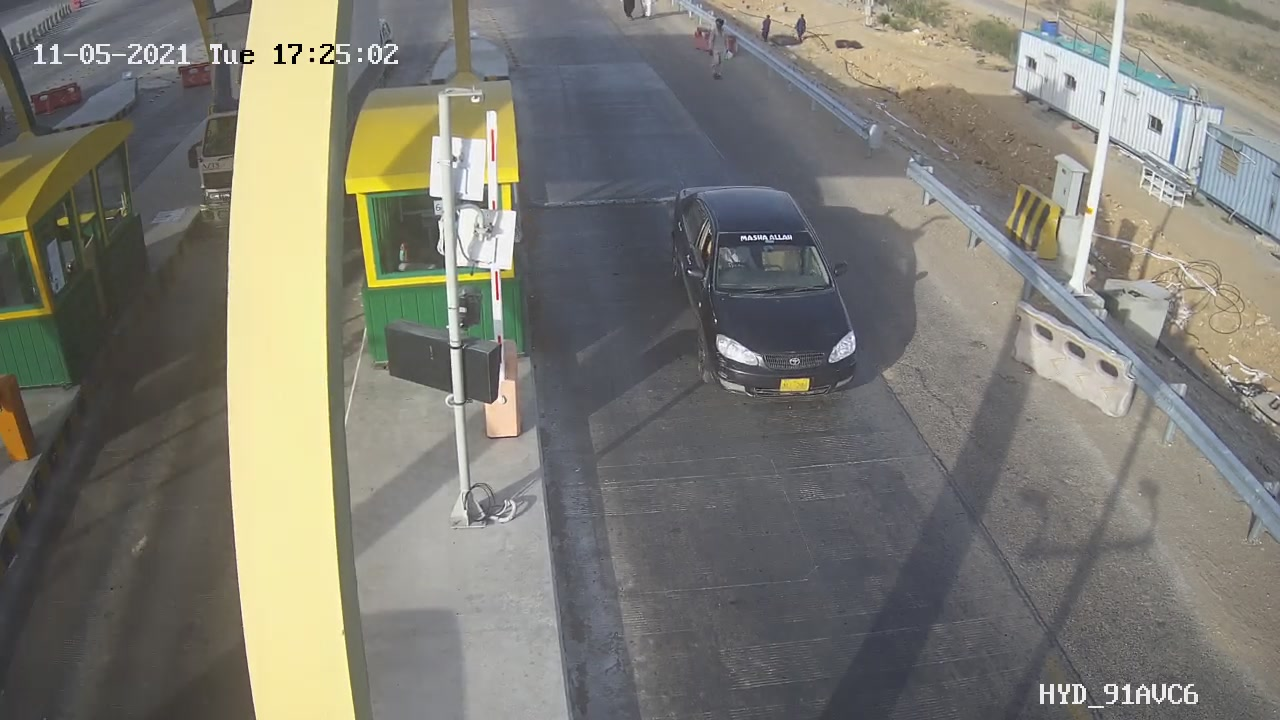F1: (651, 164, 886, 427)
